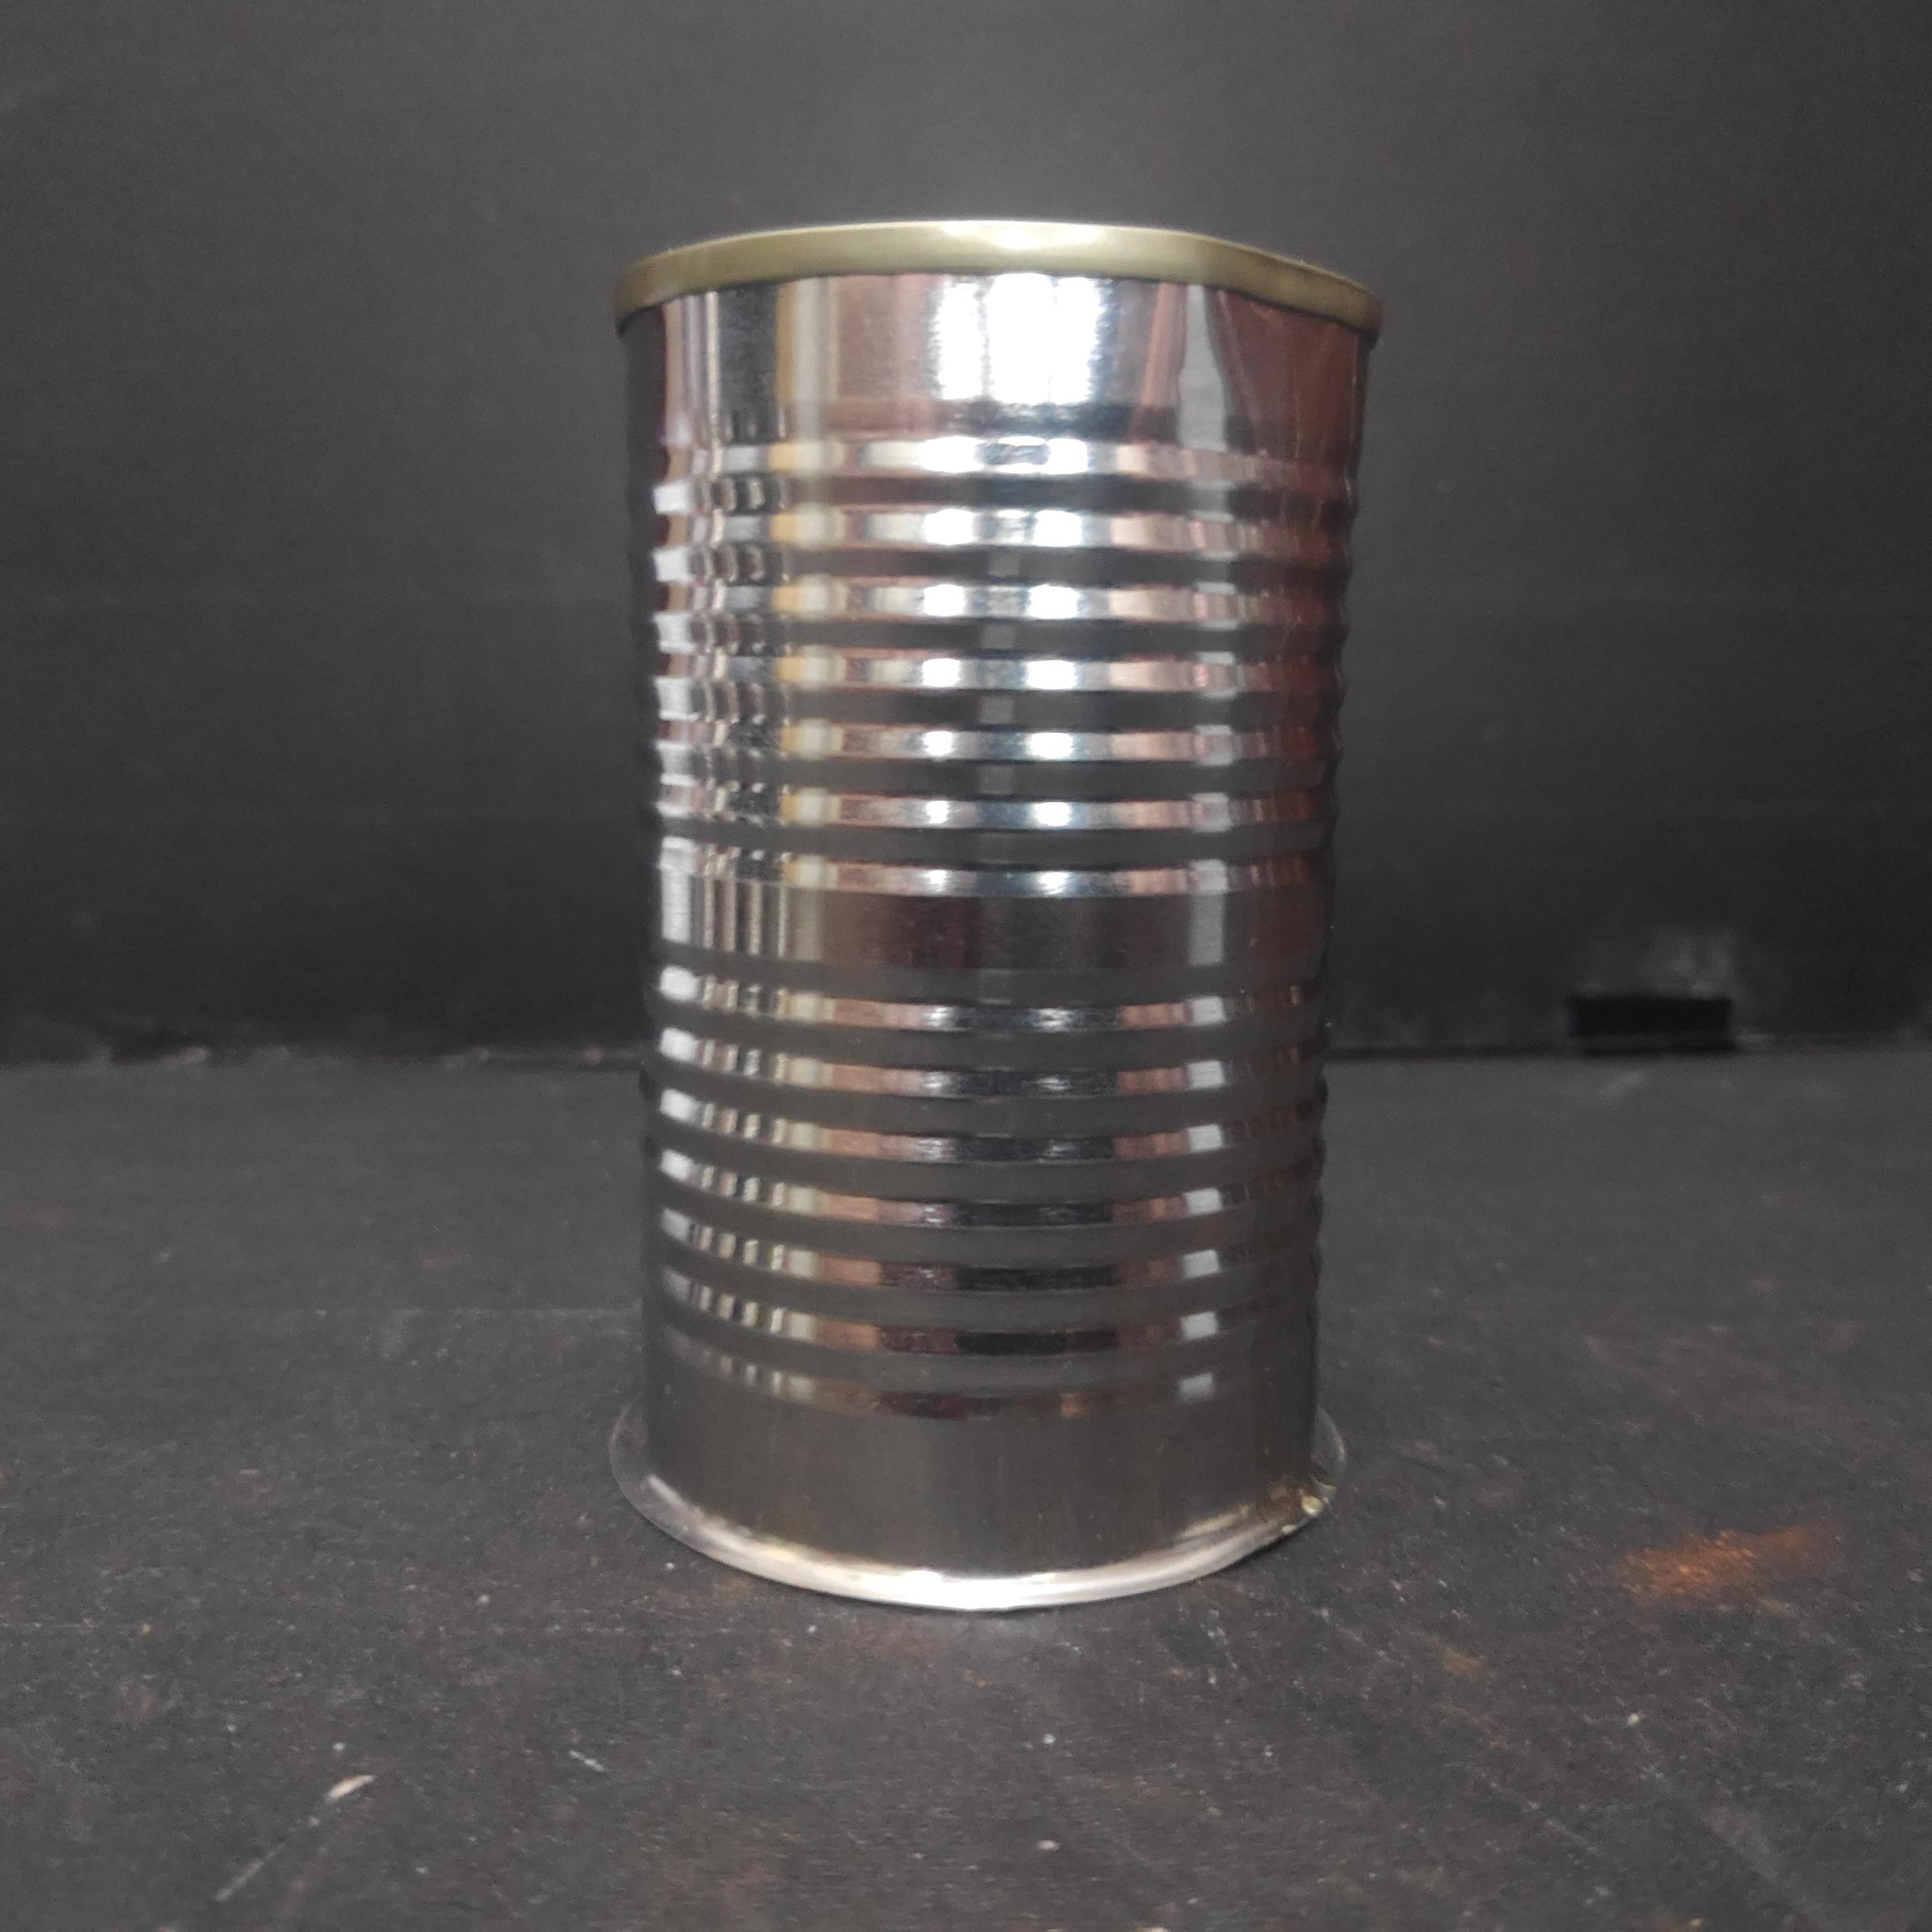Minor Defect: (605, 205, 1396, 1615)
